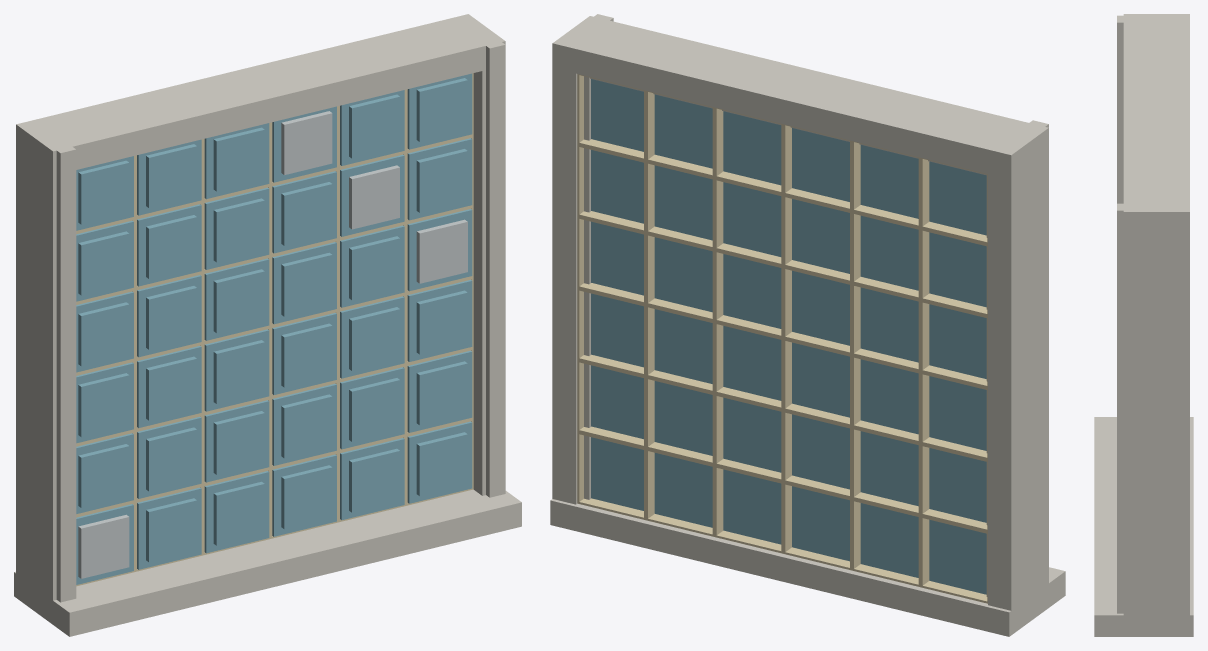
Rendered from b12_glass_block_window_panel.glb.
The picture shows the model from 3 angles, left to right: view 1: azimuth 30°, elevation 25°; view 2: azimuth 150°, elevation 25°; view 3: azimuth 270°, elevation 25°; orthographic projection. The views are drawn at different scales.
Visible parts, largest first — view 1: b12_glass_block_window_panel; view 2: b12_glass_block_window_panel; view 3: b12_glass_block_window_panel.
Part boxes in pixels (x1,y1,x2,y2): b12_glass_block_window_panel: (14, 14, 521, 636); b12_glass_block_window_panel: (550, 14, 1065, 636); b12_glass_block_window_panel: (1094, 14, 1193, 636).
Bounding box in the file's own units: 1.27 × 1.27 × 0.27.
